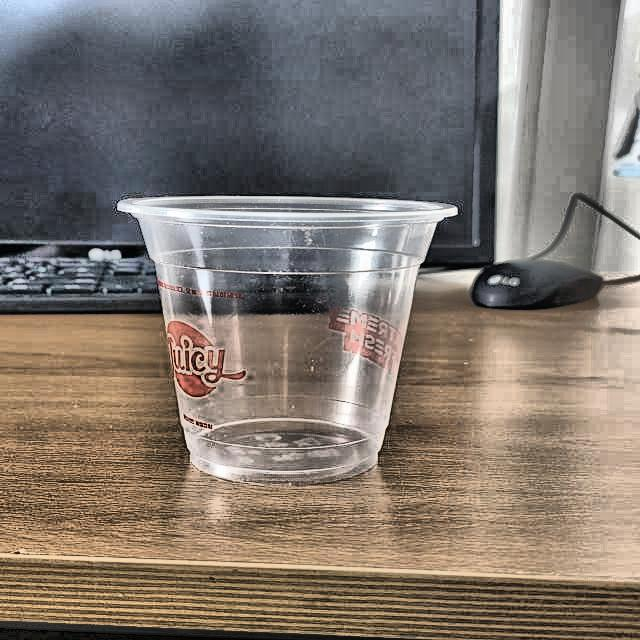plastic cup: (115, 192, 461, 478)
